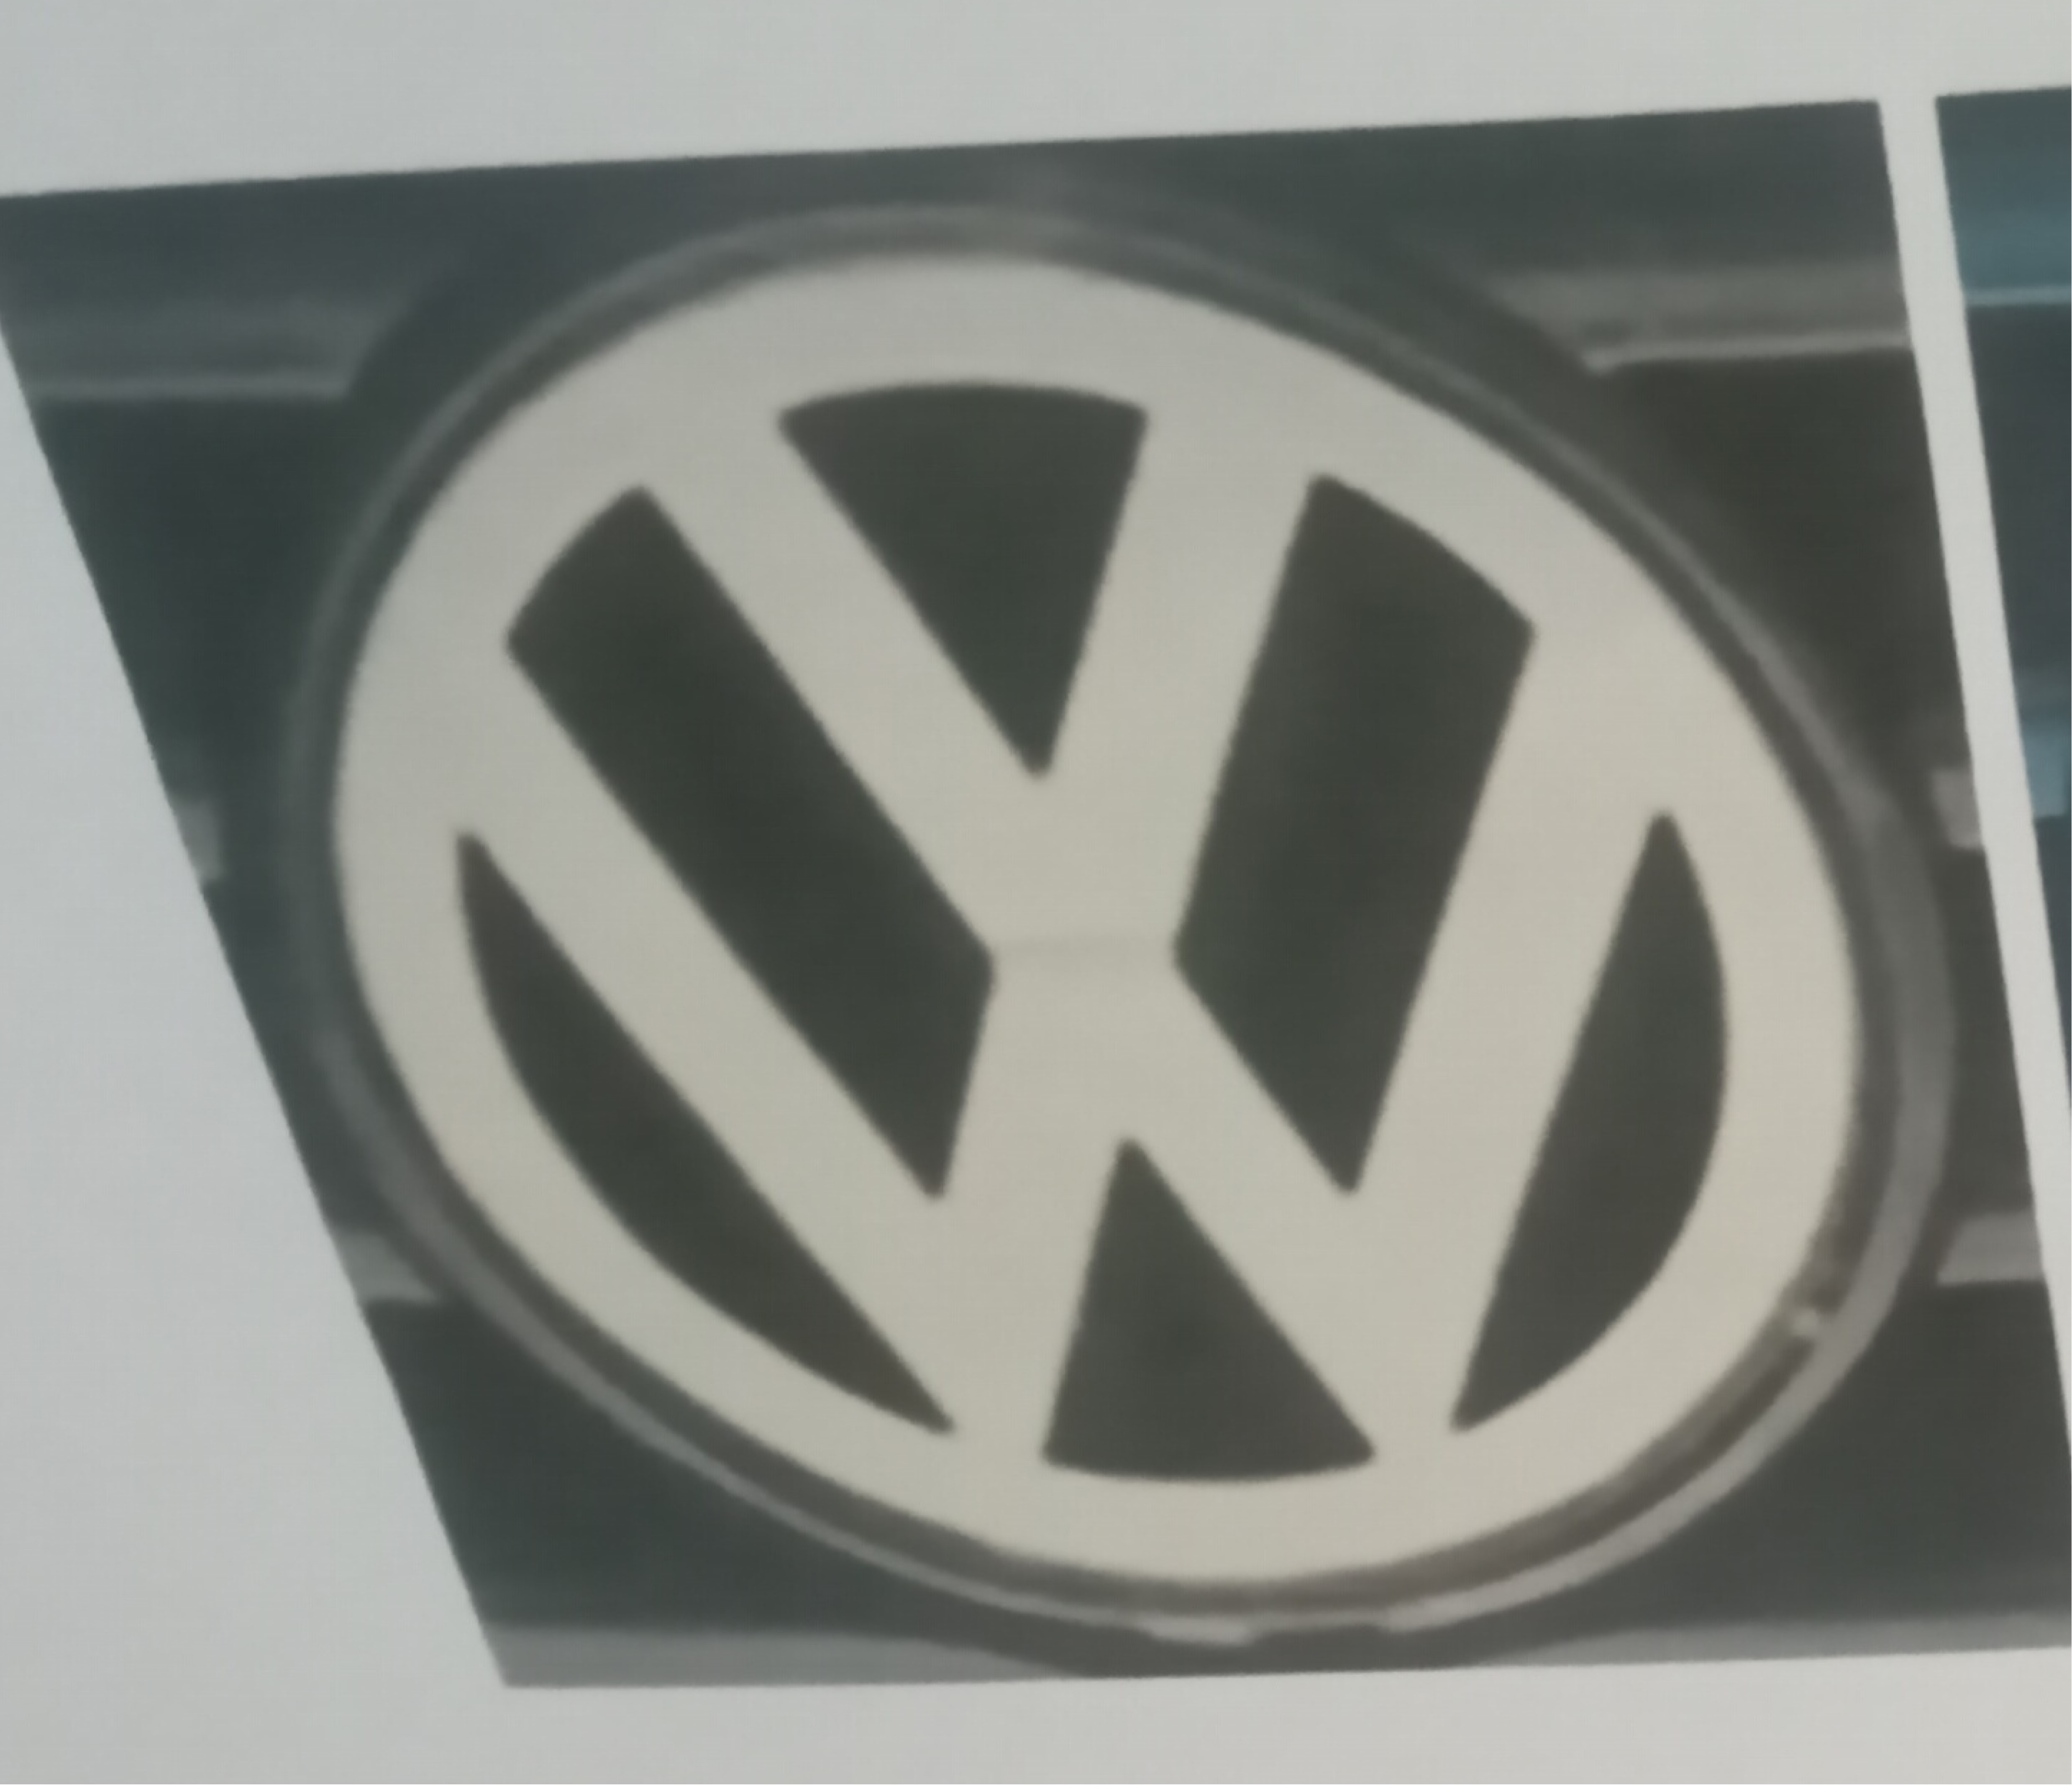Volkswagen: (257, 181, 1920, 1638)
